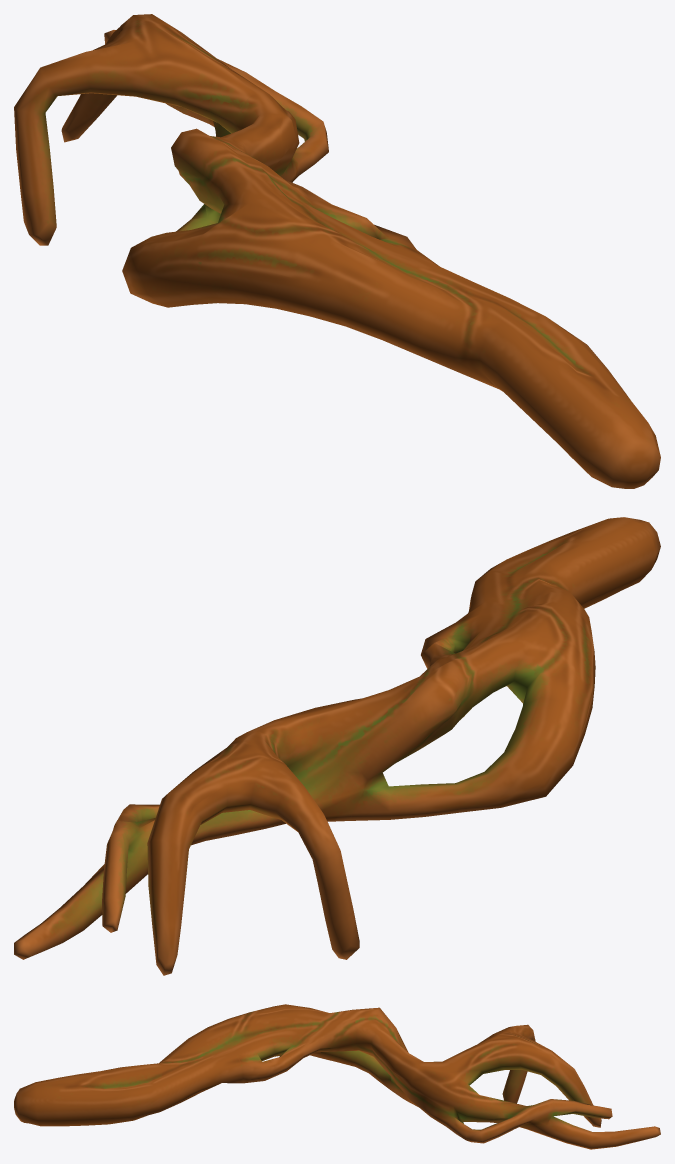
Rendered from kok_2.fbx.
3 renders of one model, top to bottom at view 1: azimuth 30°, elevation 25°; view 2: azimuth 150°, elevation 25°; view 3: azimuth 270°, elevation 25°, orthographic. The views are drawn at different scales.
Parts seen in each view (by area): view 1: Retopo_kok2; view 2: Retopo_kok2; view 3: Retopo_kok2.
Part boxes in pixels (x1=…): Retopo_kok2: x1=14, y1=14, x2=660, y2=488; Retopo_kok2: x1=14, y1=517, x2=660, y2=975; Retopo_kok2: x1=14, y1=1004, x2=660, y2=1149.
Bounding box in the file's own units: 488 × 278 × 1511.
